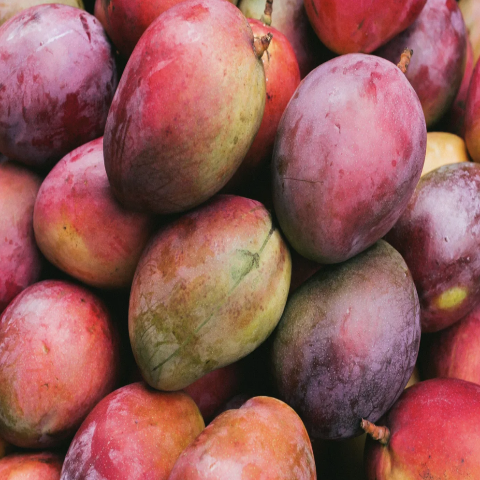mango: (83, 0, 284, 224), (270, 25, 431, 266), (107, 192, 311, 382), (264, 236, 430, 444)
